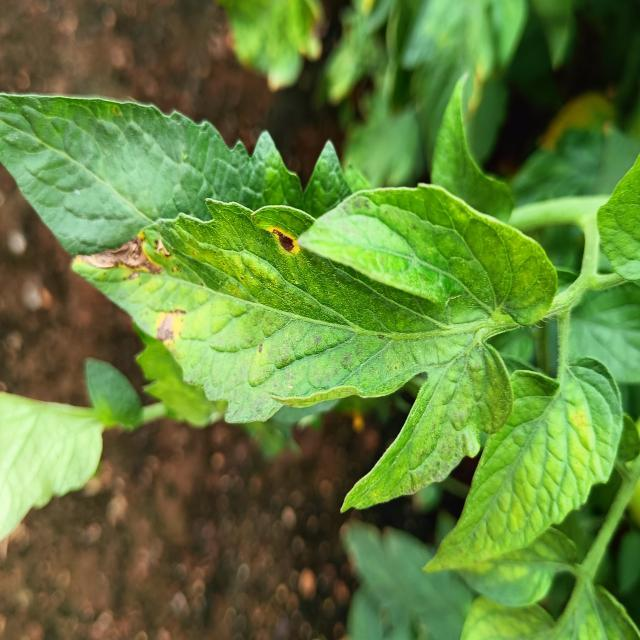Tomato mosaic virus leaf: (182, 186, 418, 426)
